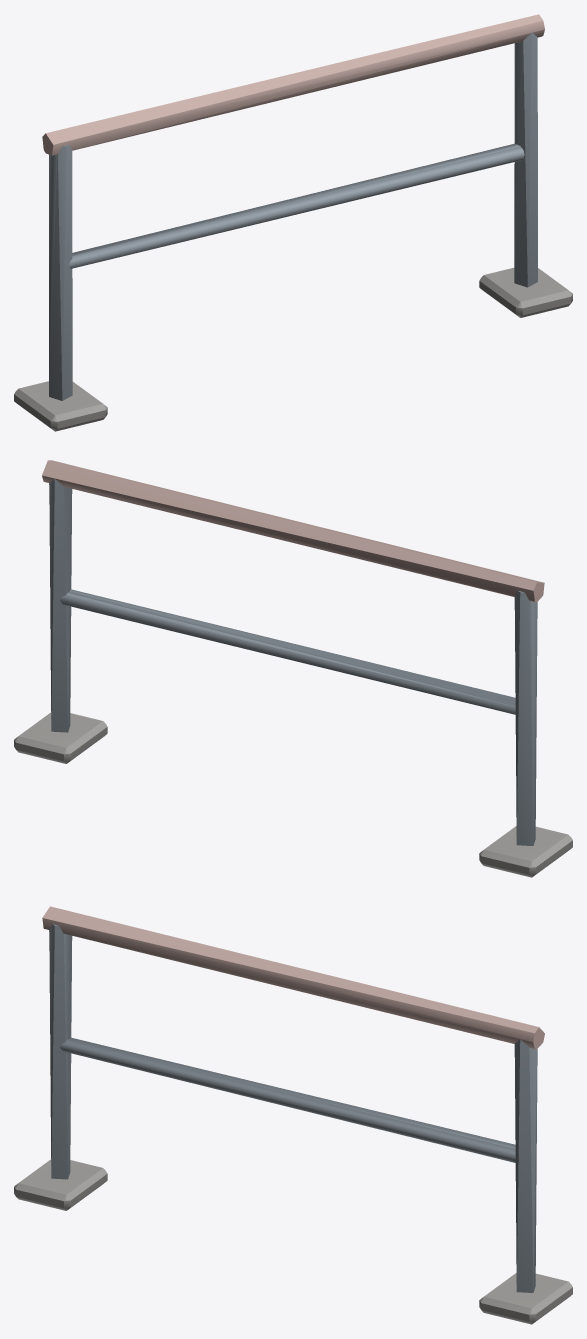
The model's file is rail.lod1.glb.
3 renders of one model, top to bottom at view 1: azimuth 30°, elevation 25°; view 2: azimuth 150°, elevation 25°; view 3: azimuth 330°, elevation 25°, orthographic.
Bounding box in the file's own units: 2.02 × 1.04 × 0.28.
